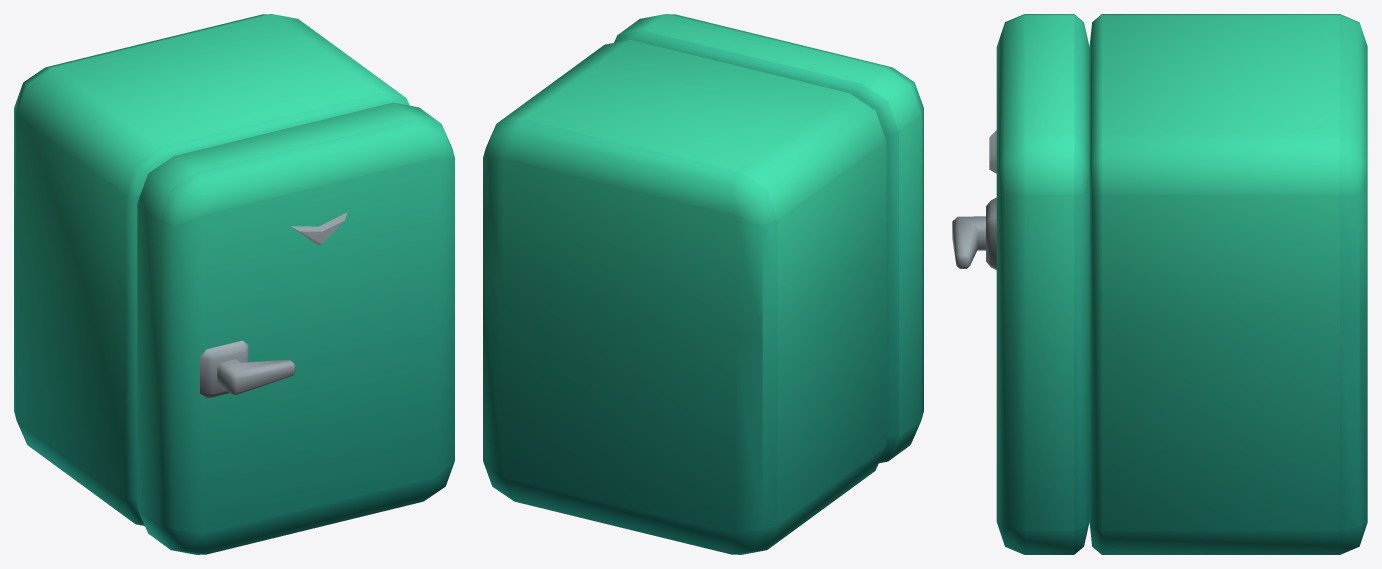
The model's file is kay-fridge_b.glb.
3 renders of one model, left to right at view 1: azimuth 30°, elevation 25°; view 2: azimuth 150°, elevation 25°; view 3: azimuth 270°, elevation 25°, orthographic. The views are drawn at different scales.
Visible parts, largest first — view 1: fridge_B_door, fridge_B; view 2: fridge_B, fridge_B_door; view 3: fridge_B, fridge_B_door.
Part boxes in pixels (x1=…): fridge_B_door: x1=137, y1=102, x2=454, y2=554; fridge_B: x1=14, y1=14, x2=409, y2=525; fridge_B: x1=483, y1=39, x2=886, y2=554; fridge_B_door: x1=614, y1=14, x2=923, y2=463; fridge_B: x1=1089, y1=14, x2=1367, y2=554; fridge_B_door: x1=952, y1=14, x2=1089, y2=554.
Size of the model in its own units: 1.52 by 1.9 by 1.7.
1 material, 1 textured.
